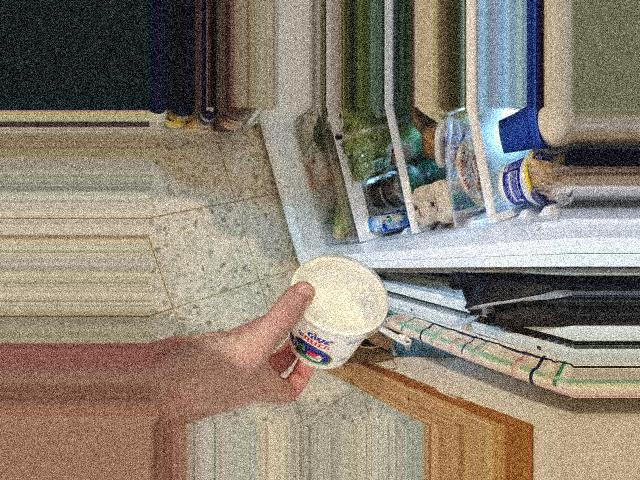cotage: (279, 255, 389, 374)
